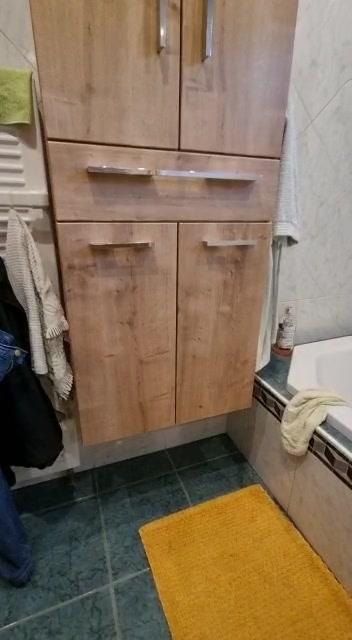handle: (80, 159, 264, 192), (196, 232, 263, 258), (82, 237, 161, 259), (196, 0, 219, 73), (153, 0, 170, 62)
